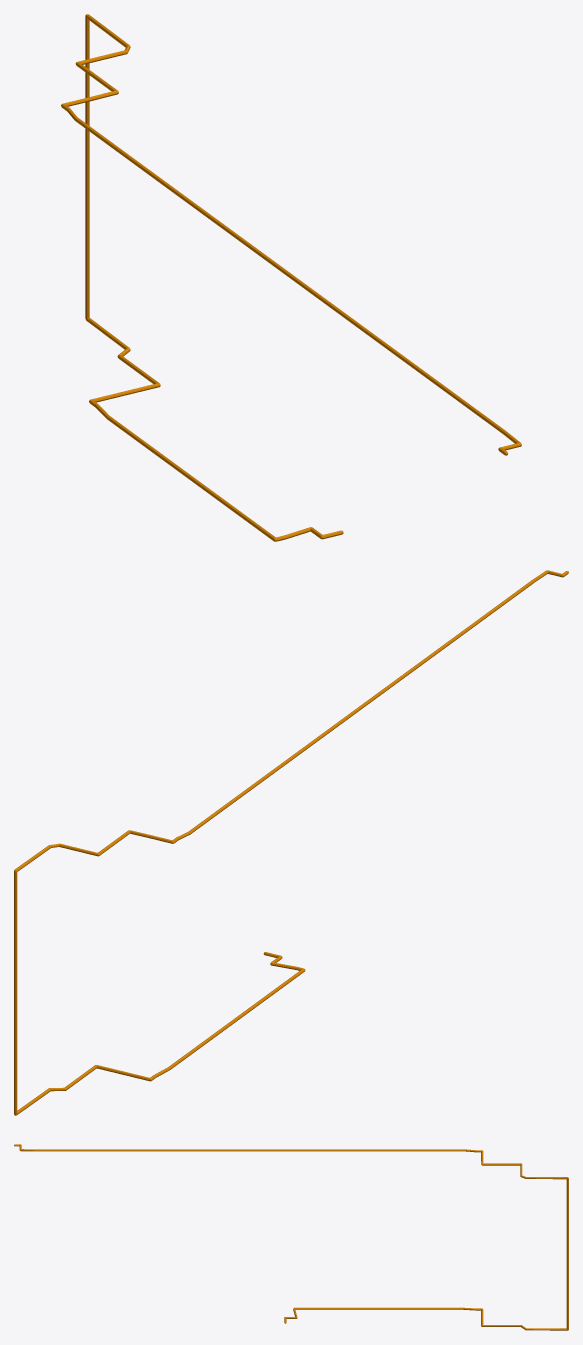
The picture shows the model from 3 angles, top to bottom: view 1: azimuth 30°, elevation 25°; view 2: azimuth 150°, elevation 25°; view 3: azimuth 270°, elevation 25°; orthographic projection. The views are drawn at different scales.
Bounding box in the file's own units: 716 × 1520 × 4985.
